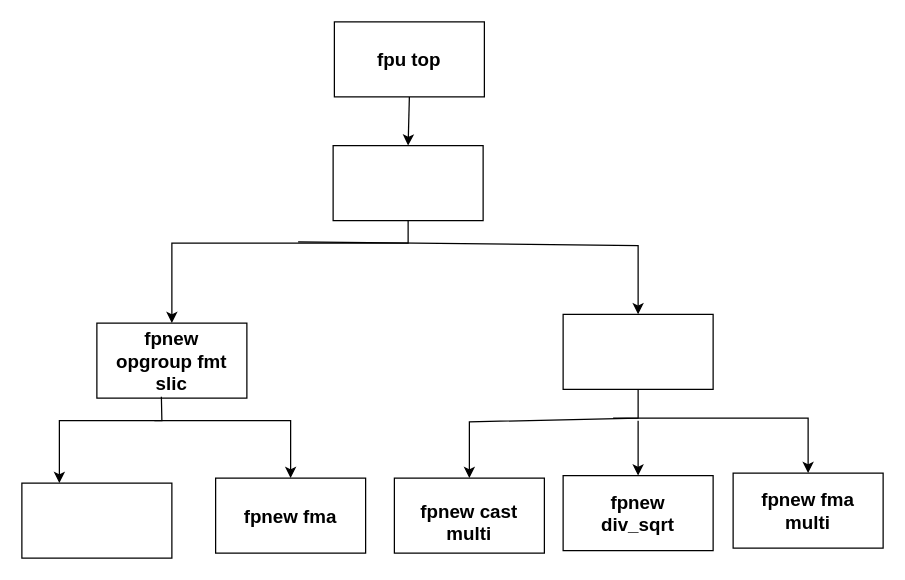
Image size: 905x580. Some labels were removed from this diagram. The shapes that lost their labels are listed below. From the top down, each one's centre as x and y in pixels, then its label:
(407,182): fpu opgroup block
(637,351): fpnew opgroup multi_fmt slic
(96,520): fpnew non-comp
